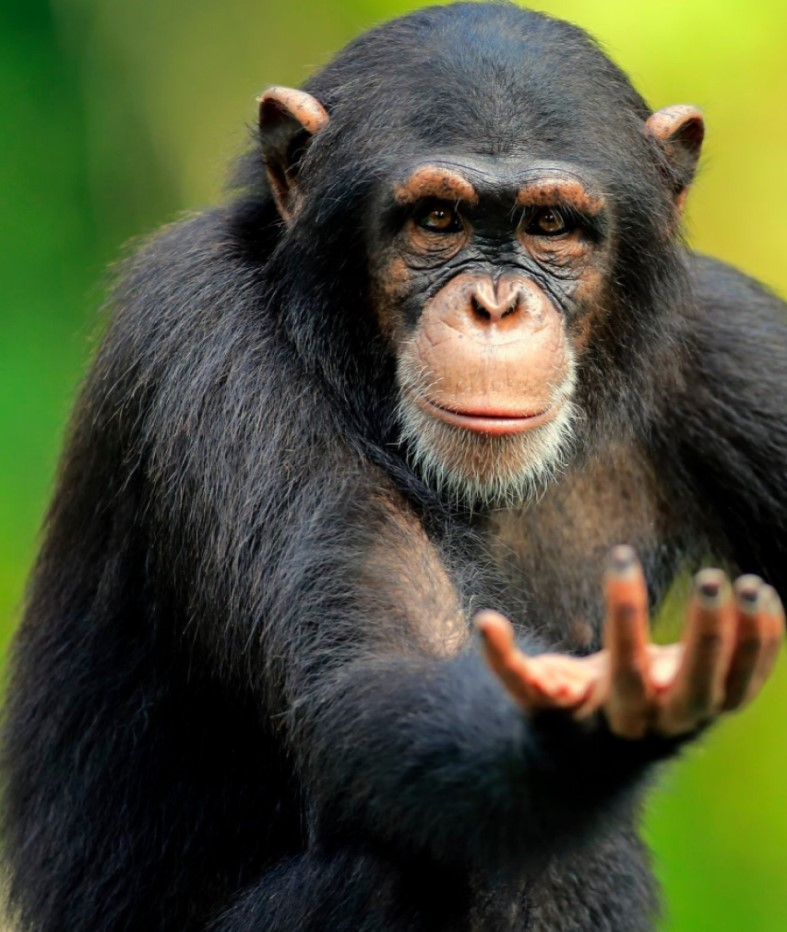Chimpanzee: (91, 21, 759, 886)
